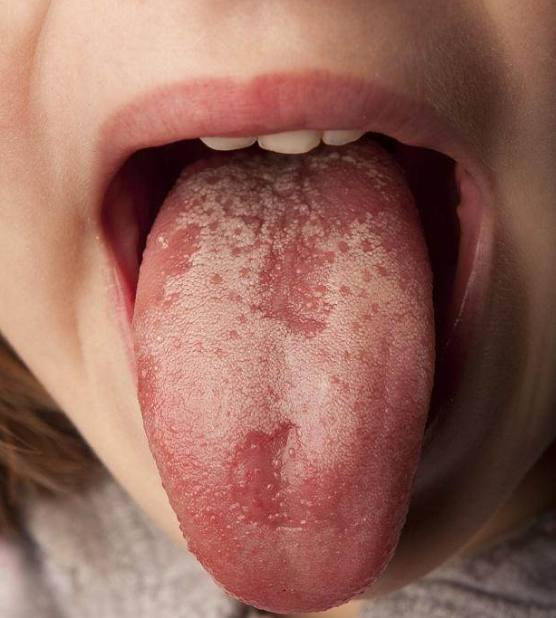botaishe: (244, 154, 392, 341), (223, 418, 316, 533)
hongshe: (133, 136, 433, 614)
huataishe: (243, 441, 307, 524)
